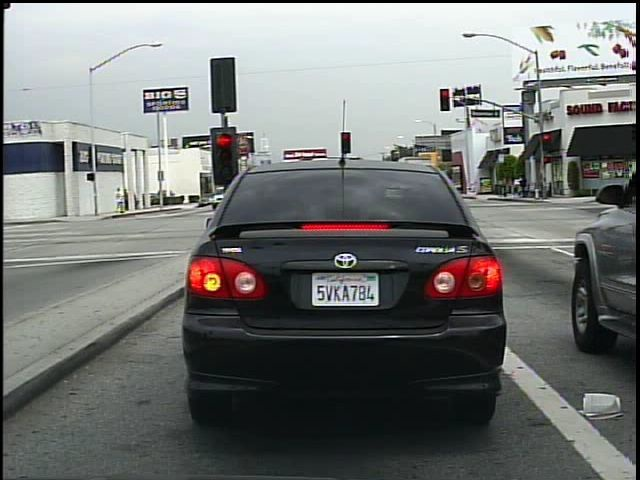person: (115, 185, 129, 217), (517, 173, 530, 200)
